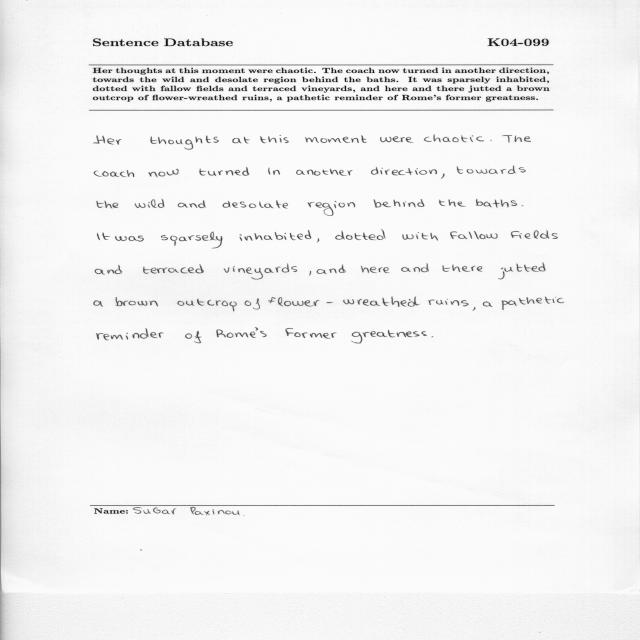word: (268, 297, 420, 307), (224, 263, 298, 280), (161, 232, 222, 249), (351, 330, 427, 343), (150, 136, 219, 150), (498, 263, 546, 280), (502, 297, 564, 310), (240, 230, 312, 241), (97, 329, 163, 341), (308, 201, 356, 216), (177, 299, 237, 311), (143, 264, 204, 274), (223, 200, 288, 209), (285, 328, 337, 339), (216, 327, 267, 338), (457, 166, 526, 174), (371, 167, 437, 175), (335, 230, 386, 240), (305, 135, 367, 143), (374, 199, 425, 208), (200, 167, 250, 176), (511, 230, 558, 239), (424, 135, 484, 142), (296, 169, 353, 176), (115, 297, 158, 306), (450, 231, 498, 239), (476, 199, 517, 208), (402, 232, 438, 241), (317, 265, 346, 275), (428, 299, 469, 306), (94, 135, 122, 145), (94, 170, 134, 177), (443, 265, 483, 272), (95, 265, 122, 275), (135, 199, 164, 208), (401, 264, 429, 273), (149, 169, 179, 177), (380, 136, 414, 143), (260, 135, 289, 143), (502, 135, 531, 143), (178, 200, 206, 208), (439, 199, 466, 207), (185, 331, 202, 343), (115, 235, 144, 242), (361, 266, 389, 273), (244, 299, 260, 310), (97, 201, 118, 209), (233, 137, 251, 143), (97, 233, 110, 241), (268, 168, 280, 175), (94, 300, 103, 307), (483, 301, 493, 307), (441, 173, 445, 179), (473, 307, 476, 311), (317, 238, 319, 243), (309, 271, 311, 275), (432, 336, 434, 338), (490, 140, 492, 141), (522, 205, 523, 206)
